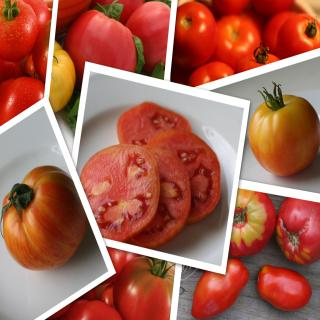tomato: (0, 162, 86, 272), (77, 140, 159, 244), (148, 126, 220, 223), (248, 80, 320, 176), (64, 0, 143, 84), (132, 144, 192, 247), (112, 257, 174, 320), (191, 256, 251, 320), (117, 100, 191, 149), (125, 0, 169, 75), (175, 0, 219, 70), (230, 191, 276, 257), (256, 264, 316, 311), (278, 199, 320, 265), (215, 15, 263, 70), (0, 73, 45, 126), (0, 0, 36, 61), (47, 36, 75, 111), (275, 11, 319, 57), (263, 8, 299, 52), (98, 248, 140, 283), (186, 58, 236, 87), (57, 0, 91, 38), (59, 300, 124, 319), (236, 40, 276, 70), (31, 18, 50, 81), (94, 0, 146, 23), (21, 0, 55, 29), (254, 0, 295, 20), (218, 0, 250, 17), (46, 302, 76, 320), (90, 288, 114, 306)
